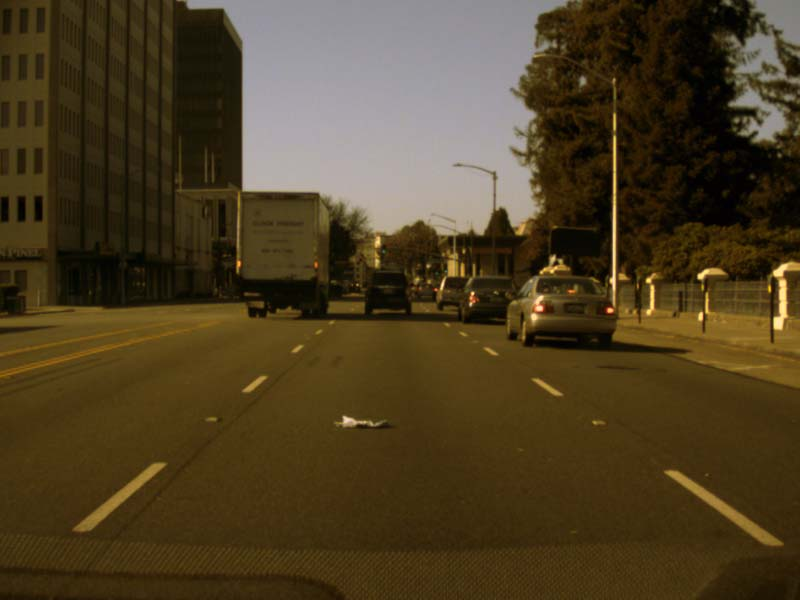Green: (434, 261, 439, 275), (381, 245, 386, 253), (443, 263, 446, 272)
Red: (358, 254, 363, 263)
